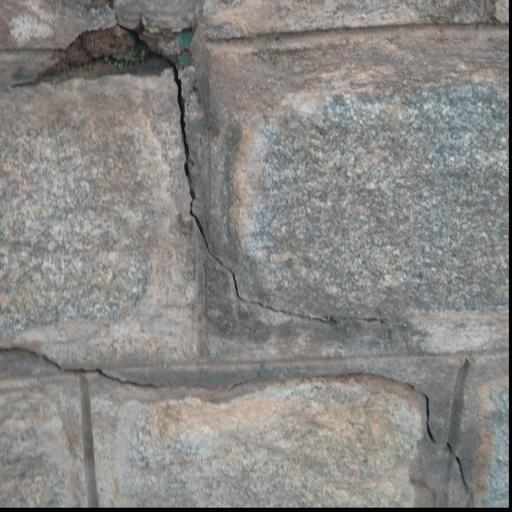major_crack: (31, 0, 415, 335), (0, 339, 481, 492)
